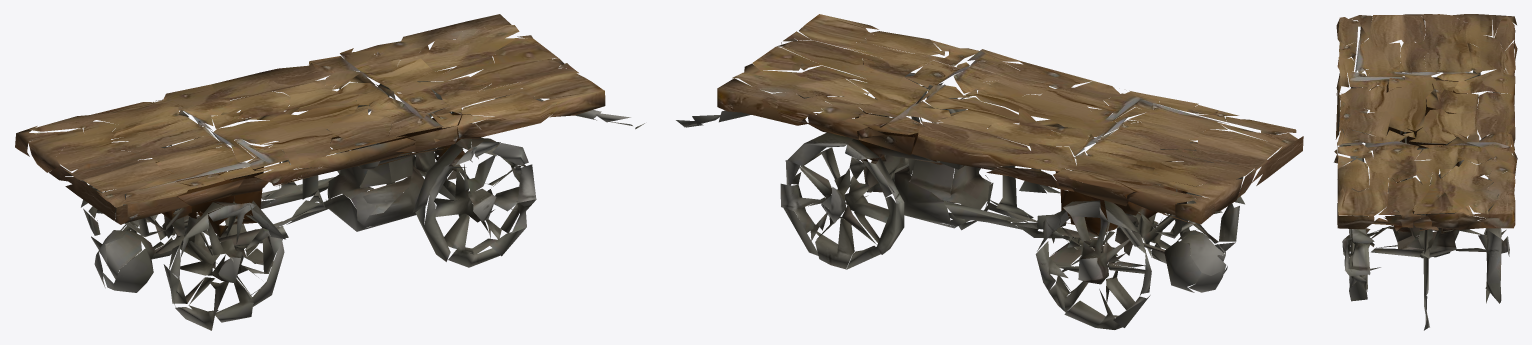
Rendered from penn_baggage_wagon.glb.
3 views of the same model, side by side, from view 1: azimuth 30°, elevation 25°; view 2: azimuth 150°, elevation 25°; view 3: azimuth 270°, elevation 25° (orthographic). The views are drawn at different scales.
Visible parts, largest first — view 1: tripo_node_3e1476d4-39af-4575-8b60-687e43240b00; view 2: tripo_node_3e1476d4-39af-4575-8b60-687e43240b00; view 3: tripo_node_3e1476d4-39af-4575-8b60-687e43240b00.
Part boxes in pixels (x1,y1,x2,y2): tripo_node_3e1476d4-39af-4575-8b60-687e43240b00: (15,14,644,330); tripo_node_3e1476d4-39af-4575-8b60-687e43240b00: (676,14,1303,329); tripo_node_3e1476d4-39af-4575-8b60-687e43240b00: (1333,14,1517,330).
Bounding box in the file's own units: 0.9991 × 0.2684 × 0.3267.
1 material, 1 textured.
